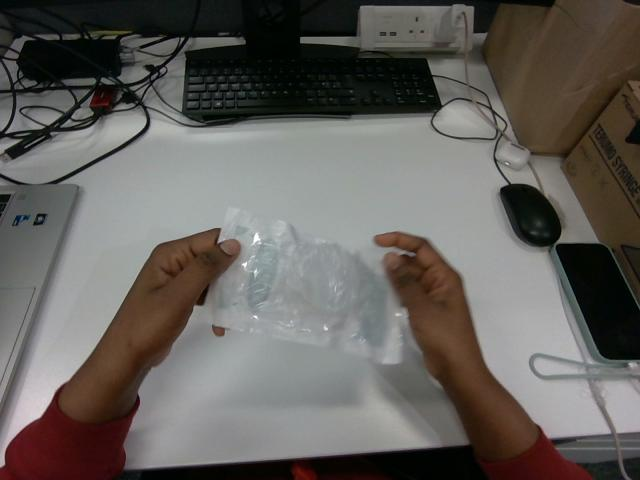gallipot: (207, 208, 405, 363)
